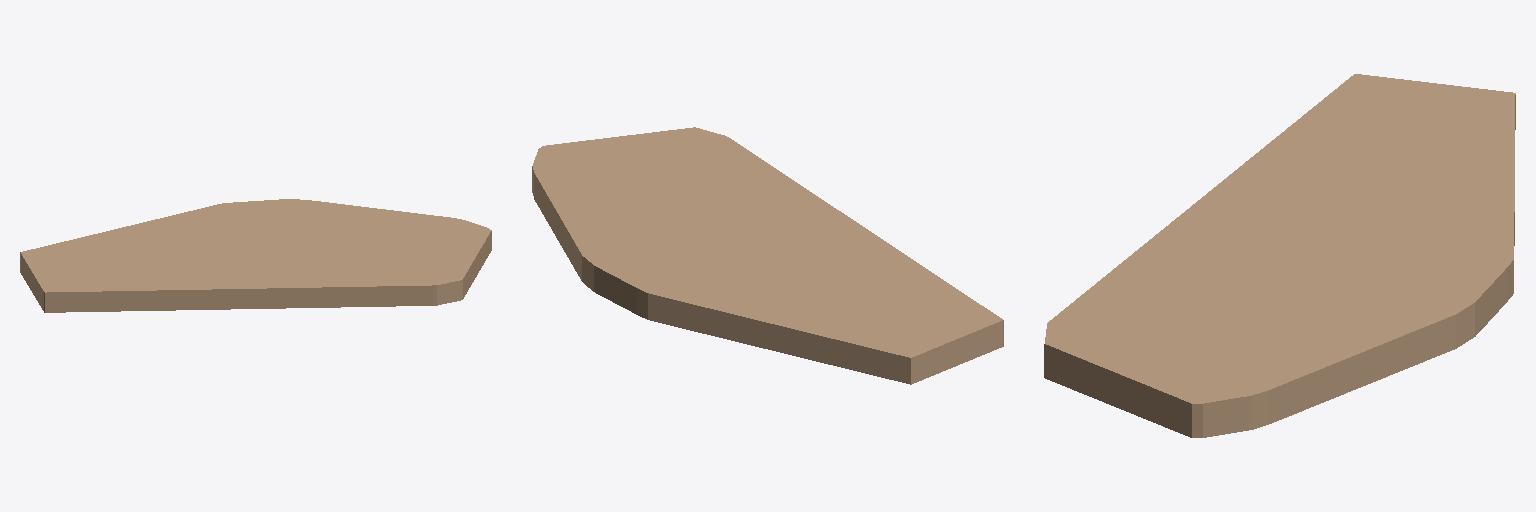
URDF robot description (table):
<?xml version="1.0"?>
<robot name="table">
  <!-- The table top of Kitchen counter: a static convex slab, top face at z = 0. Load with a fixed base -->
  <mujoco>
    <compiler meshdir="../meshes/" discardvisual="true" balanceinertia="true" fusestatic="false" />
  </mujoco>
  <link name="table">
    <inertial>
      <mass value="20" />
      <inertia ixx="1" ixy="0" ixz="0" iyy="1" iyz="0" izz="1" />
    </inertial>
    <visual>
      <geometry>
        <mesh filename="../meshes/table.obj" />
      </geometry>
      <material name="table_color">
        <color rgba="0.776 0.663 0.545 1" />
      </material>
    </visual>
    <collision>
      <geometry>
        <mesh filename="../meshes/table.obj" />
      </geometry>
    </collision>
    <contact>
      <lateral_friction value="1" />
    </contact>
  </link>
</robot>

--- Facts derived from the render (not from the file) ---
The picture shows the robot from 3 angles, left to right: view 1: azimuth 30°, elevation 25°; view 2: azimuth 150°, elevation 25°; view 3: azimuth 270°, elevation 25°; orthographic projection.
Robot: table — 1 links, 0 joints (none); root link table; default pose: every joint at zero.
Links seen in each view (by area): view 1: table; view 2: table; view 3: table.
Link boxes in pixels (<box>): table: <box>20,199,491,312</box>; table: <box>532,127,1003,384</box>; table: <box>1044,74,1515,437</box>.
Bounding box of the posed robot: 0.8204 × 0.495 × 0.04 m (x, y, z).
1 mesh visuals loaded from 1 distinct referenced files (1 OBJ).
